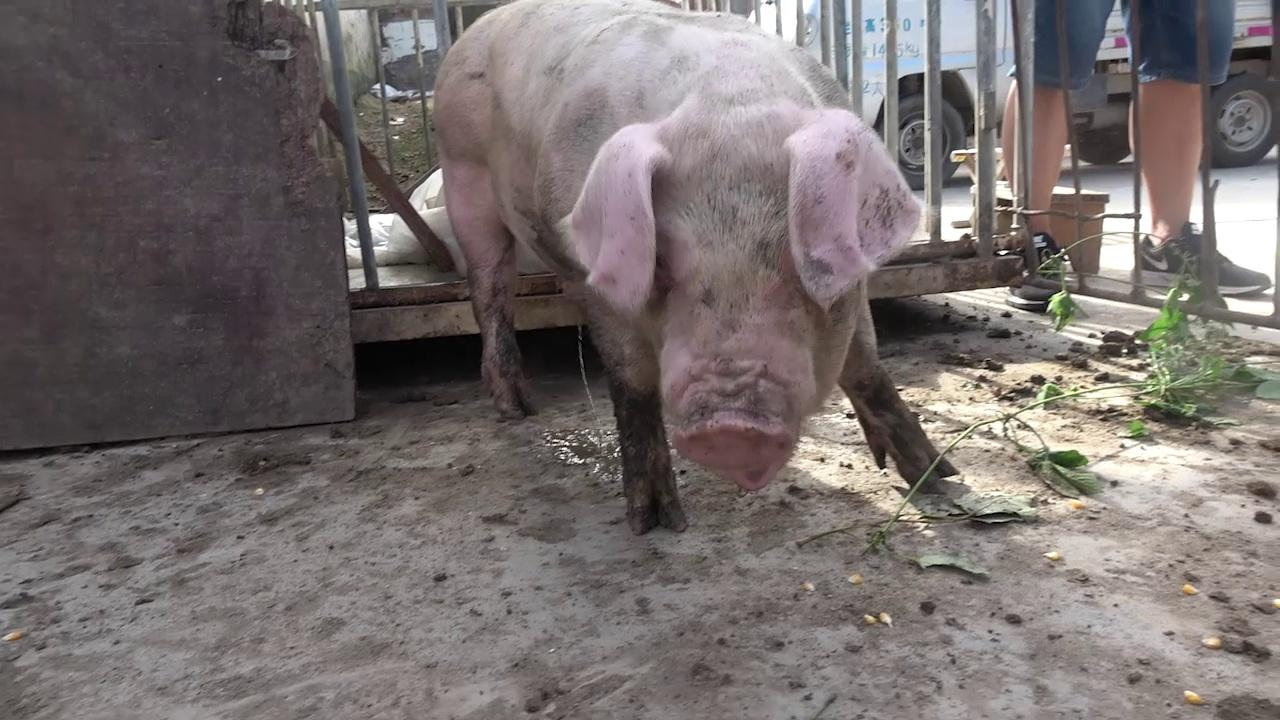Face: (556, 107, 928, 495)
